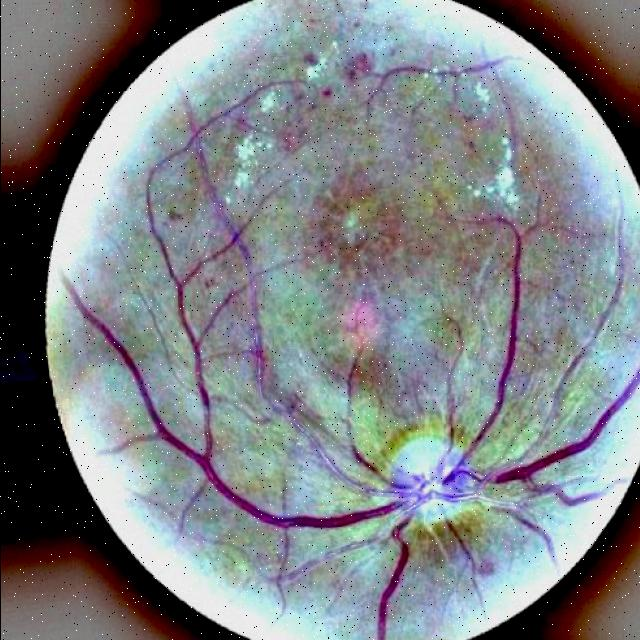Macula: (320, 188, 384, 253)
Nerves: (62, 181, 640, 640), (65, 216, 640, 531), (146, 181, 239, 408), (553, 268, 623, 408), (276, 539, 382, 613), (366, 60, 502, 107), (375, 518, 411, 640), (444, 518, 483, 610)
Optic Disk: (385, 420, 472, 523)
